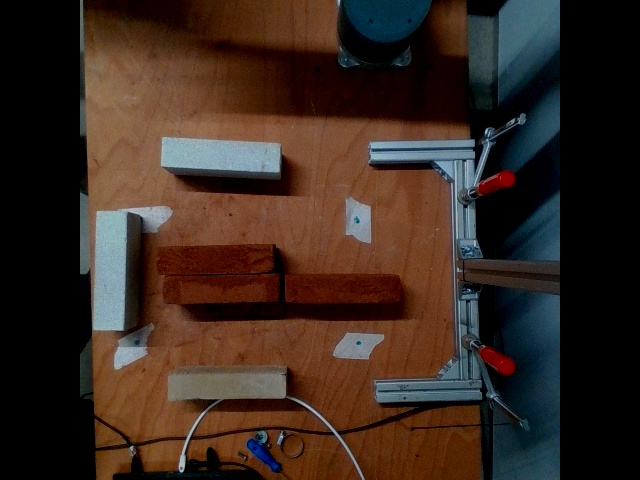brick-side: (159, 138, 280, 172), (93, 214, 125, 331), (163, 275, 279, 304), (157, 245, 272, 272), (284, 277, 398, 302), (168, 375, 284, 399)
